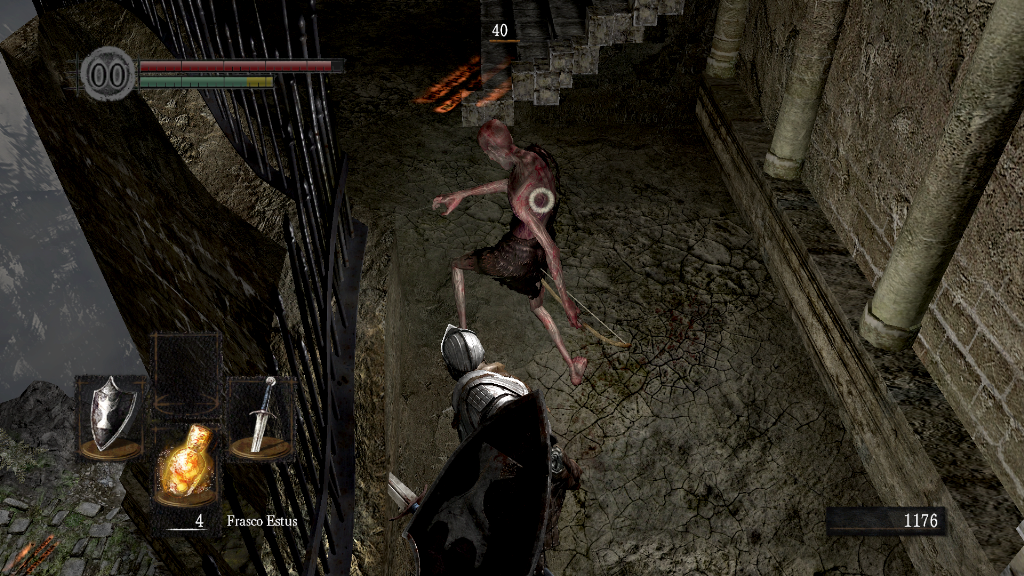health: (138, 58, 343, 71)
hollow: (431, 116, 588, 387)
humanity: (80, 45, 136, 102)
player: (393, 324, 584, 576)
souls: (825, 506, 945, 536)
stamina: (138, 74, 274, 88)
